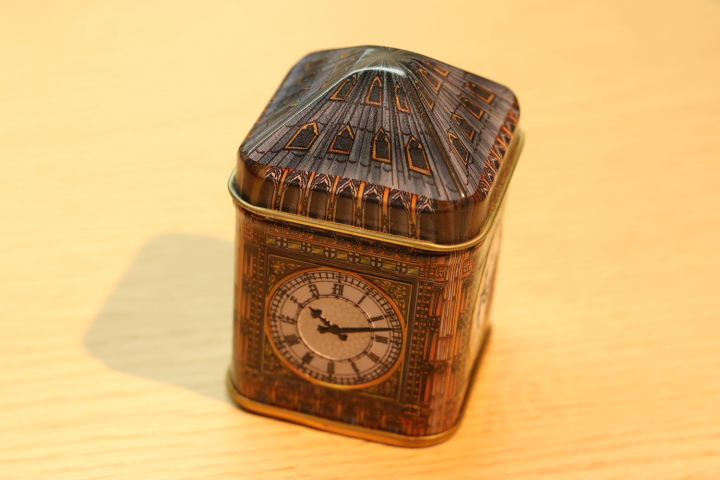Big Ben: (197, 22, 558, 462)
